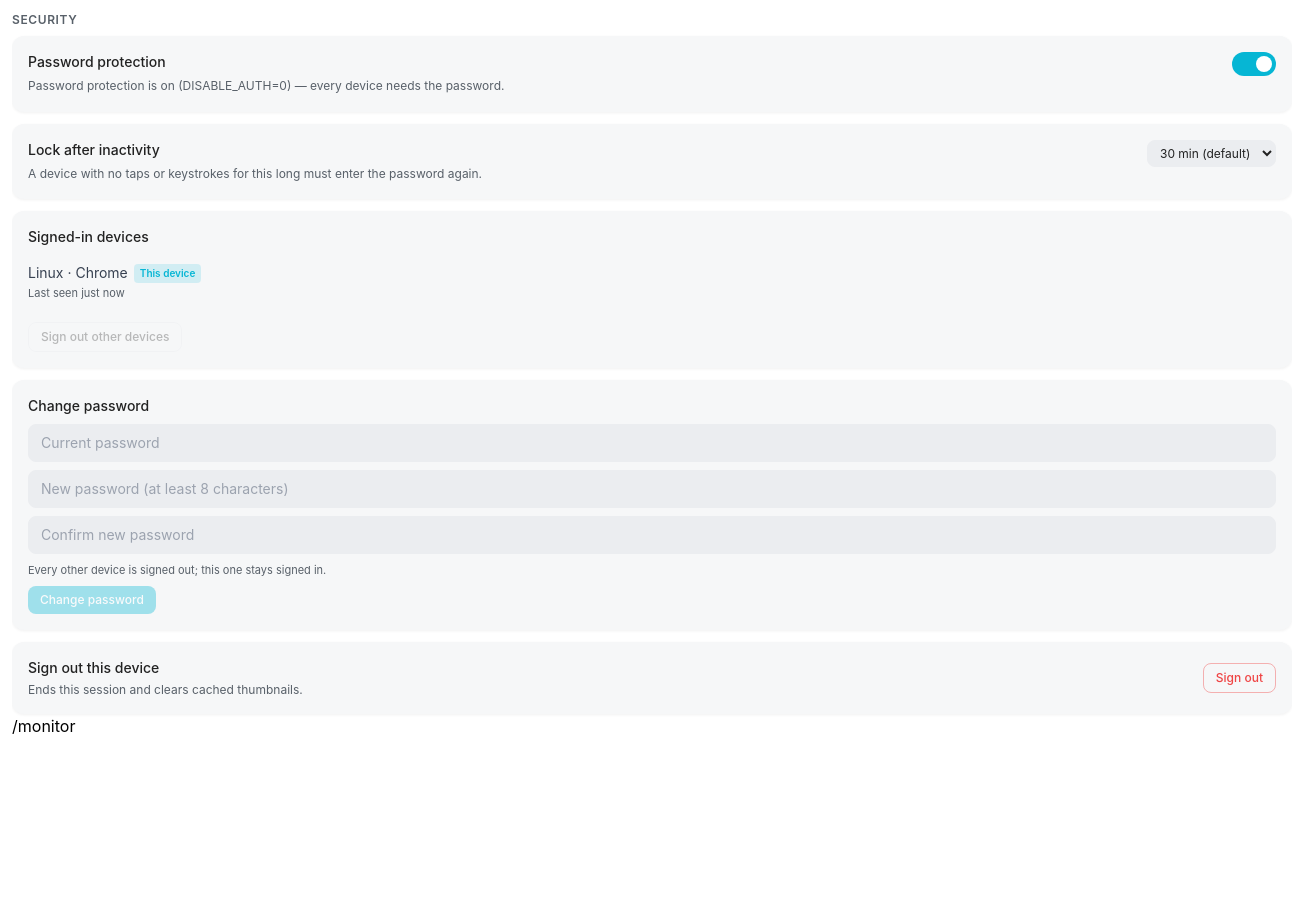
Test: this device › a wrong password while turning off is a 403: still on, still signed in
The width and height of the screenshot is (1292, 912).
Check: the text "Password protection is on (DISABLE_AUTH=0)" is shown, box x1=28 y1=78 x2=504 y2=93
Click the switch named "Password protection": x=1254, y=64 x1=1232 y1=52 x2=1276 y2=76
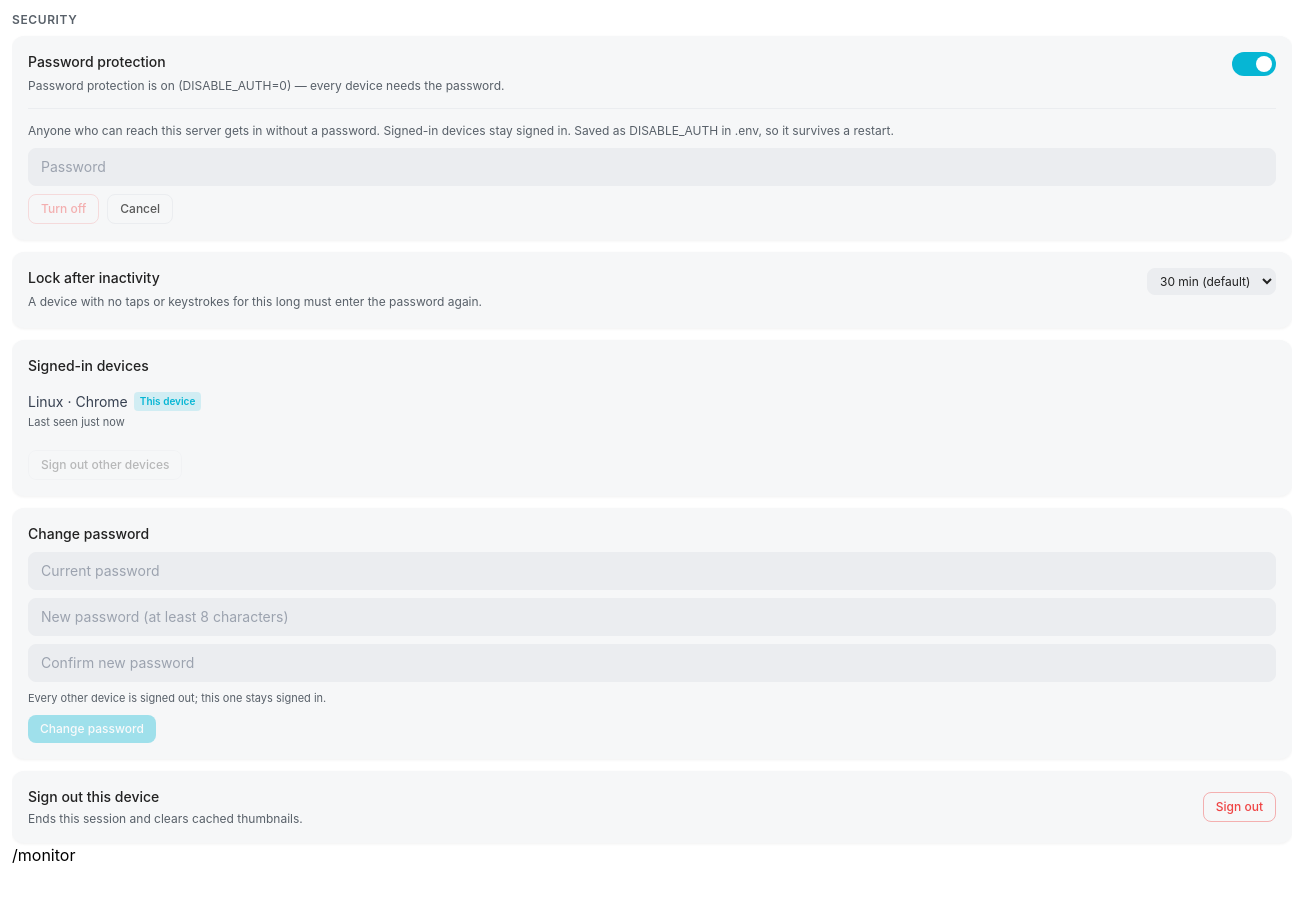
In the password field labelled "Password": x=652, y=167 x1=28 y1=148 x2=1276 y2=186, type "wrong-password"
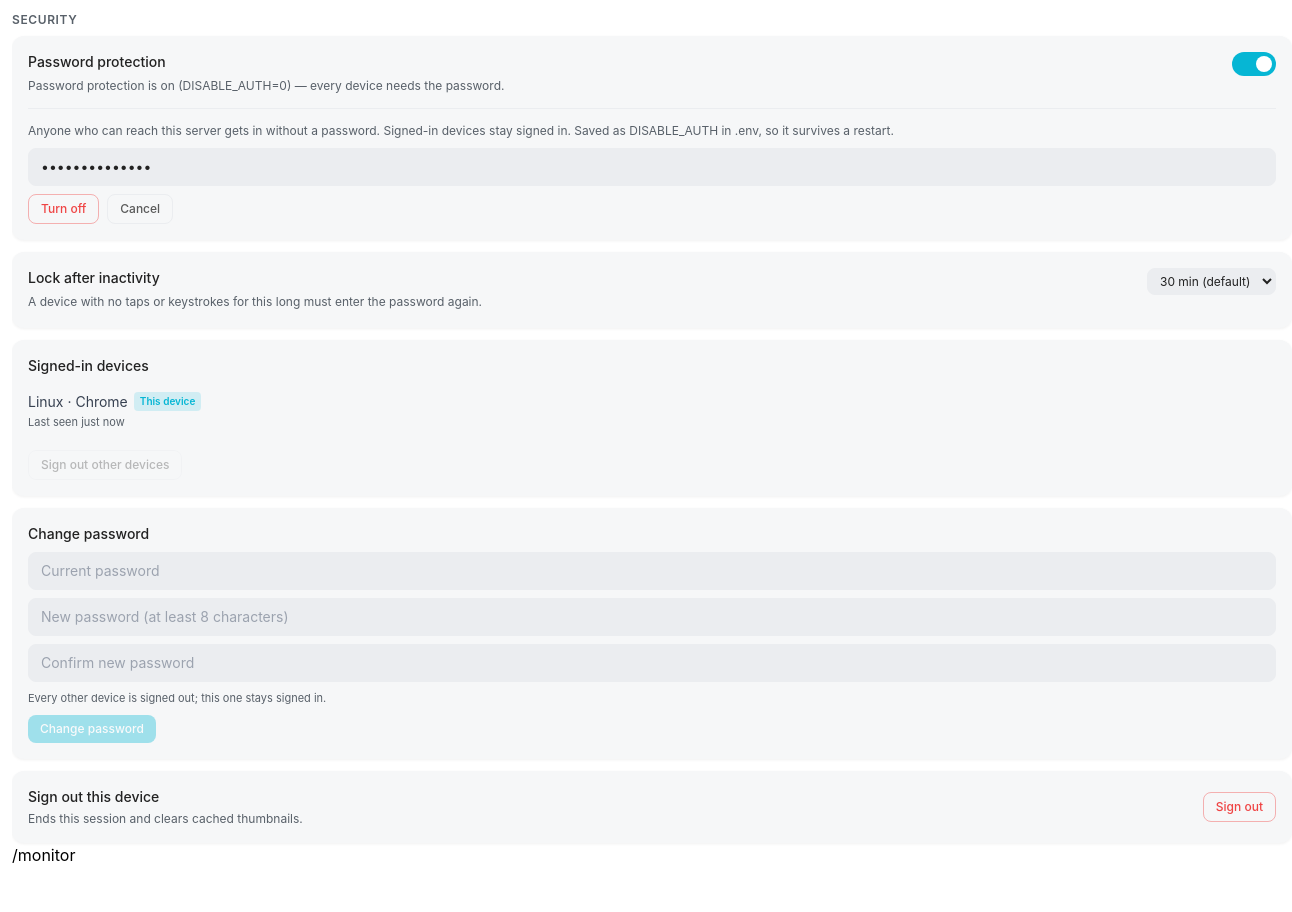
Click the button "Turn off": x=64, y=209 x1=28 y1=194 x2=99 y2=224
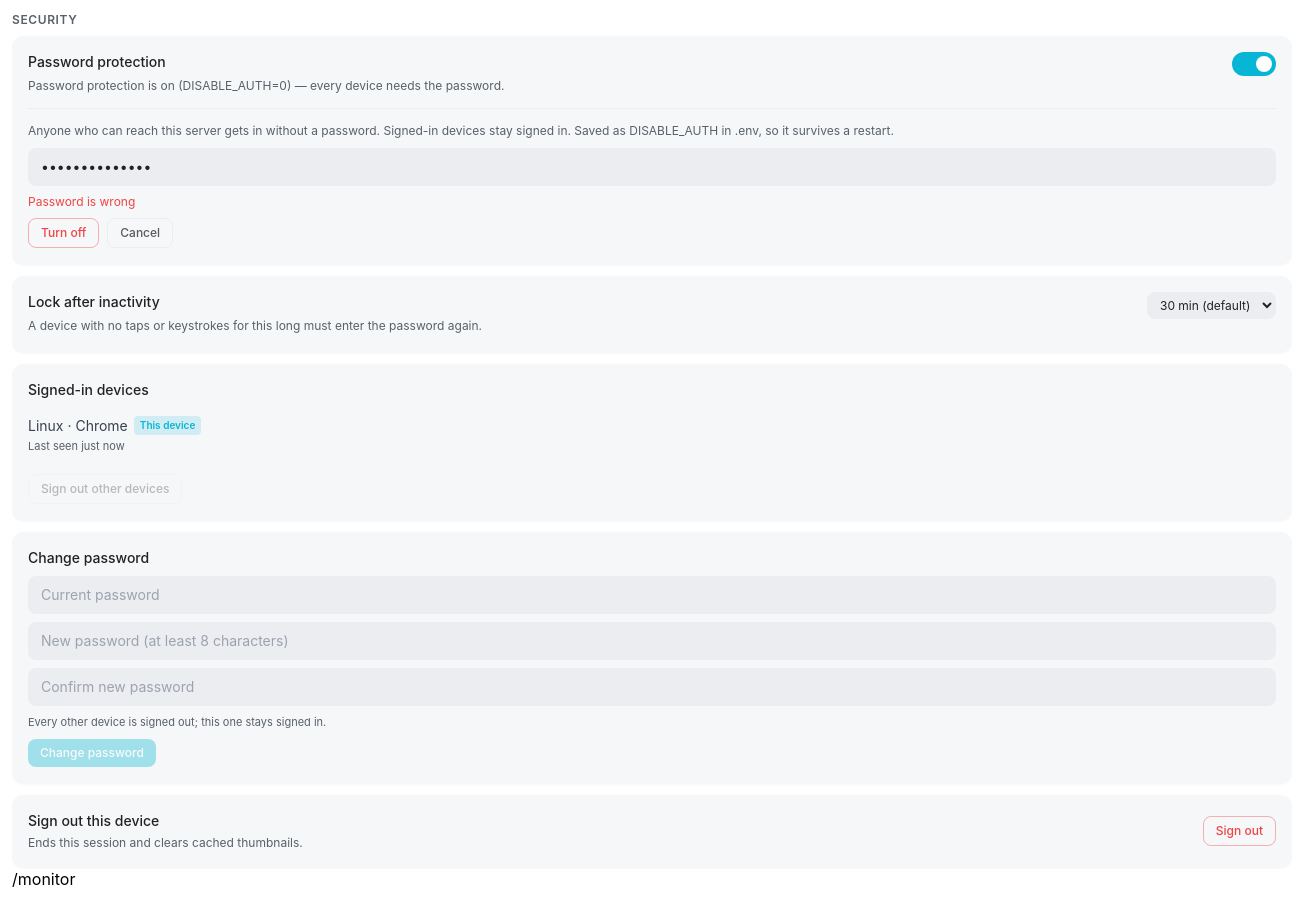
Check: the button "Sign out" is shown, box x1=1203 y1=816 x2=1276 y2=846
Check: the message reads "Password is wrong", box x1=28 y1=194 x2=135 y2=209
